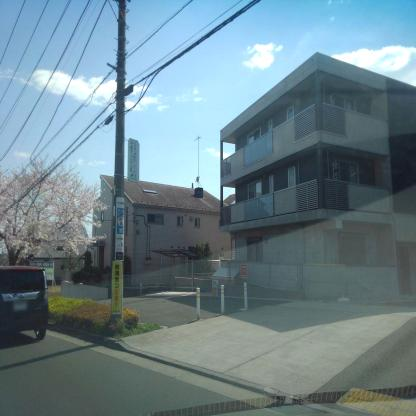Someiyoshino: (0, 149, 112, 271)
